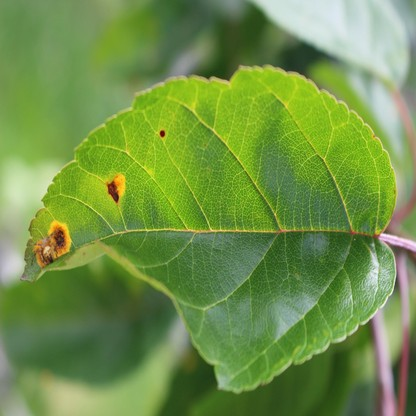rust: (33, 221, 71, 268), (105, 175, 126, 203), (159, 129, 165, 139)
